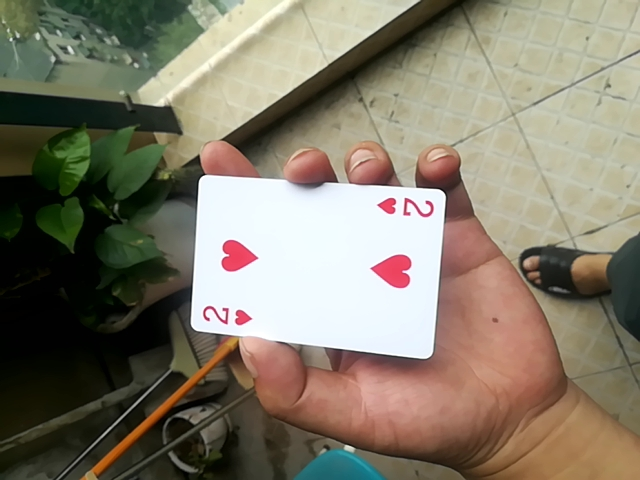hx 2: (184, 171, 445, 361)
